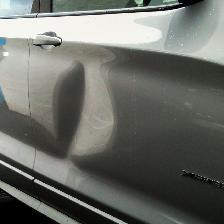door_dent: (21, 35, 161, 184)
